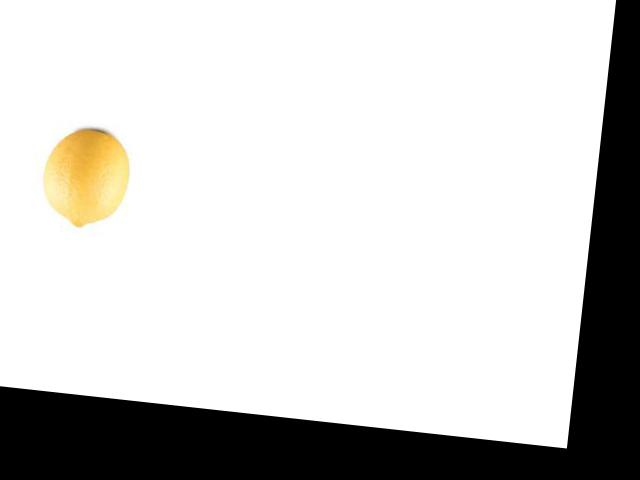lemon: (37, 122, 144, 239)
